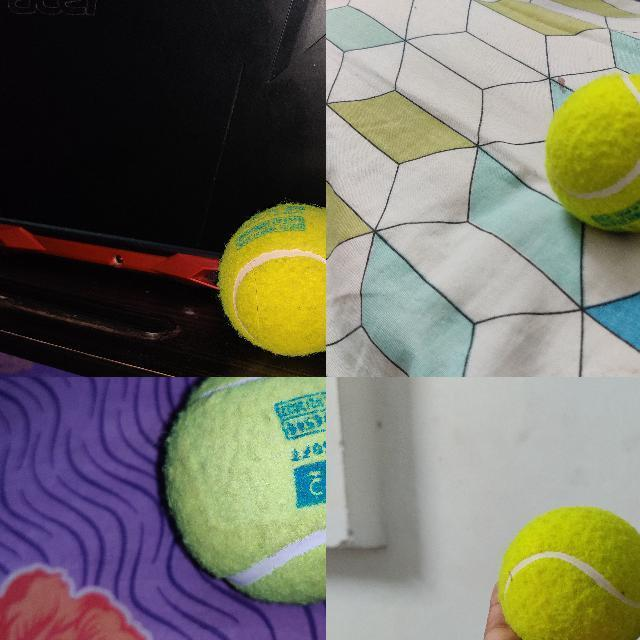tennis-ball: (162, 377, 325, 608), (498, 506, 639, 639), (215, 201, 325, 357), (544, 73, 639, 232)
